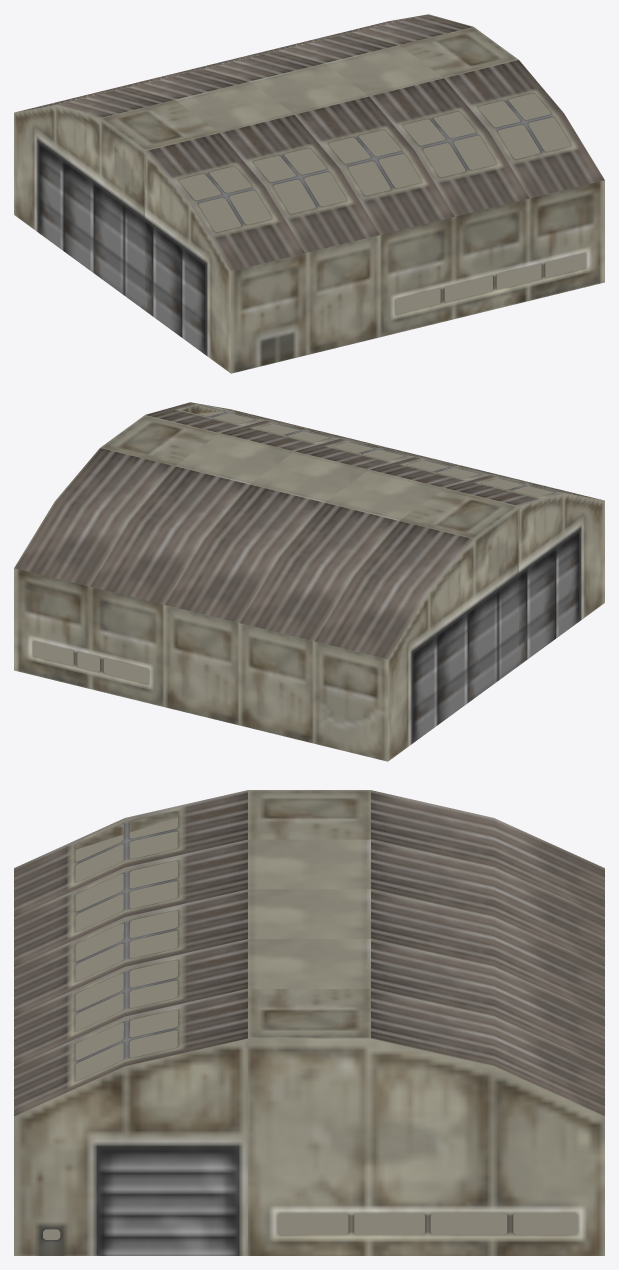
Rendered from hangar.glb.
3 renders of one model, top to bottom at view 1: azimuth 30°, elevation 25°; view 2: azimuth 150°, elevation 25°; view 3: azimuth 270°, elevation 25°, orthographic. The views are drawn at different scales.
Visible parts, largest first — view 1: Hangar, Litwin_Hangar; view 2: Hangar, Litwin_Hangar; view 3: Hangar, Litwin_Hangar.
Part boxes in pixels (x1,y1,x2,y2): Hangar: [14, 14, 604, 373]; Litwin_Hangar: [179, 93, 586, 313]; Hangar: [14, 402, 604, 761]; Litwin_Hangar: [32, 411, 553, 683]; Hangar: [14, 790, 604, 1255]; Litwin_Hangar: [43, 817, 577, 1239].
Bounding box in the file's own units: 38.2 × 15.58 × 38.4.
1 material, 1 textured.
